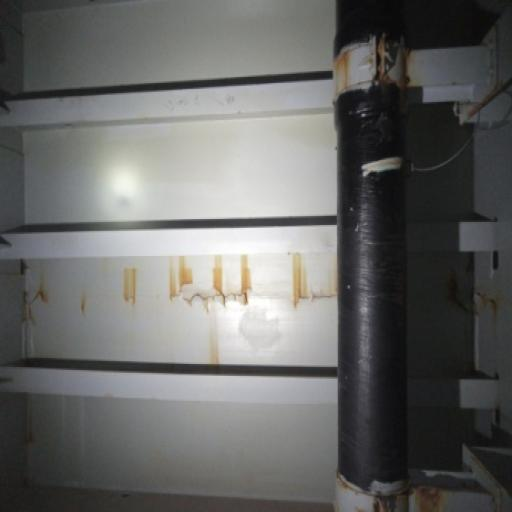Detect-rust-on-metal-surfaces: (159, 248, 201, 302), (237, 250, 264, 316), (288, 249, 318, 303), (208, 250, 229, 307), (122, 261, 142, 316)
